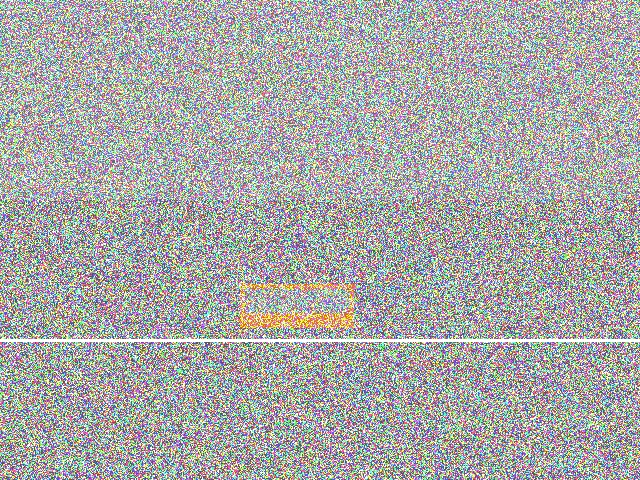truck: (90, 179, 273, 267)
